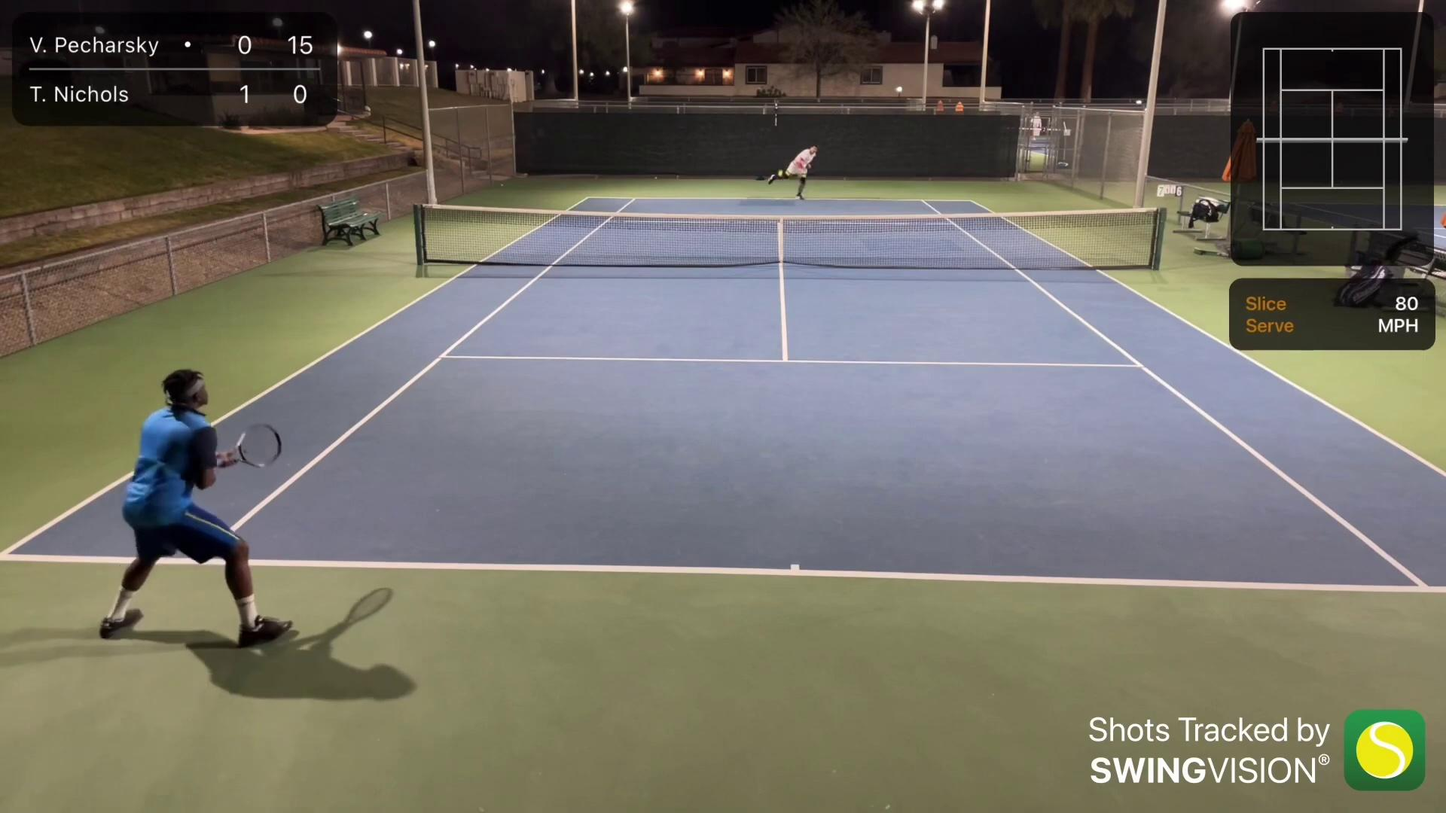ball: (499, 181, 505, 187), (777, 172, 782, 178)
